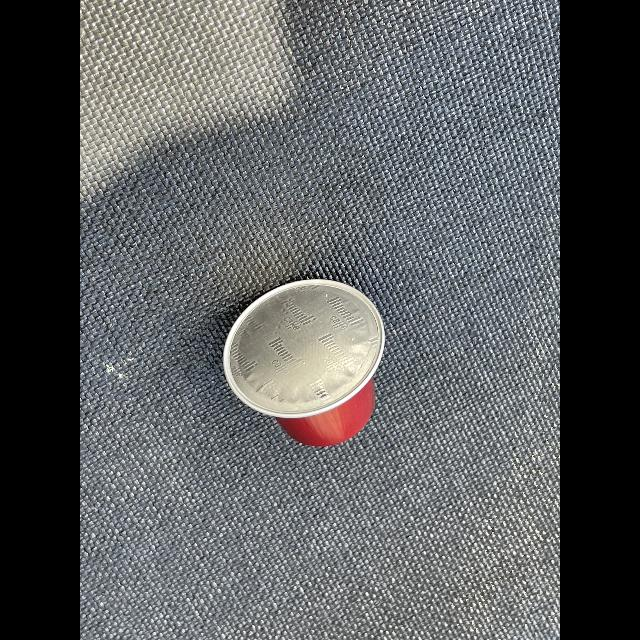intact_capsule: (214, 274, 406, 456)
